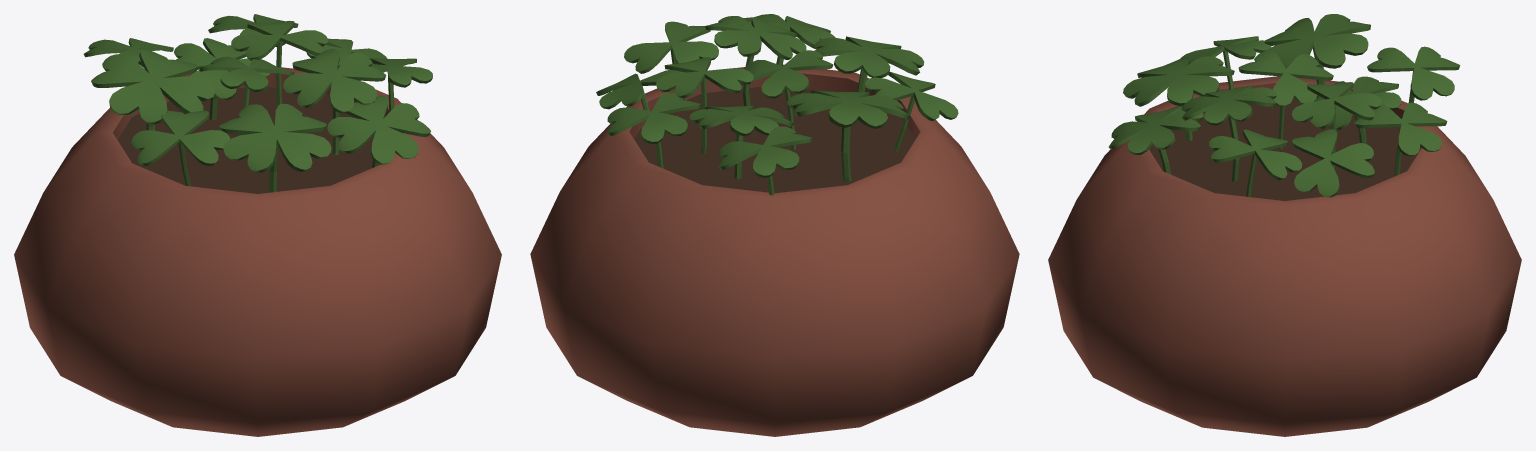
Rendered from ShamrockPot_01.fbx.
The picture shows the model from 3 angles, left to right: view 1: azimuth 30°, elevation 25°; view 2: azimuth 150°, elevation 25°; view 3: azimuth 270°, elevation 25°; orthographic projection. The views are drawn at different scales.
Parts seen in each view (by area): view 1: ShamrockPot_01; view 2: ShamrockPot_01; view 3: ShamrockPot_01.
Boxes of the visible parts, left/top/right/bottom form: ShamrockPot_01: left=14, top=14, right=501, bottom=436; ShamrockPot_01: left=530, top=14, right=1019, bottom=436; ShamrockPot_01: left=1048, top=14, right=1521, bottom=436.
Bounding box in the file's own units: 0.3203 × 0.2333 × 0.3203.
